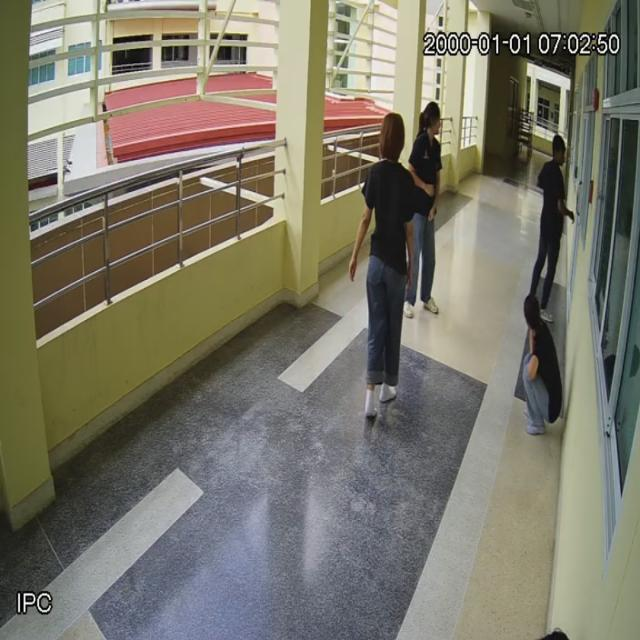normal: (351, 110, 413, 415), (533, 134, 574, 322), (409, 102, 442, 315), (516, 296, 562, 436)
